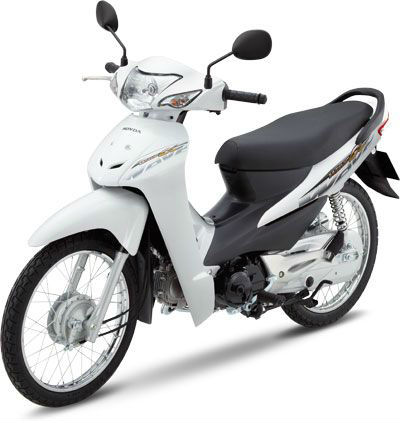motorcycle: (1, 1, 400, 409)
